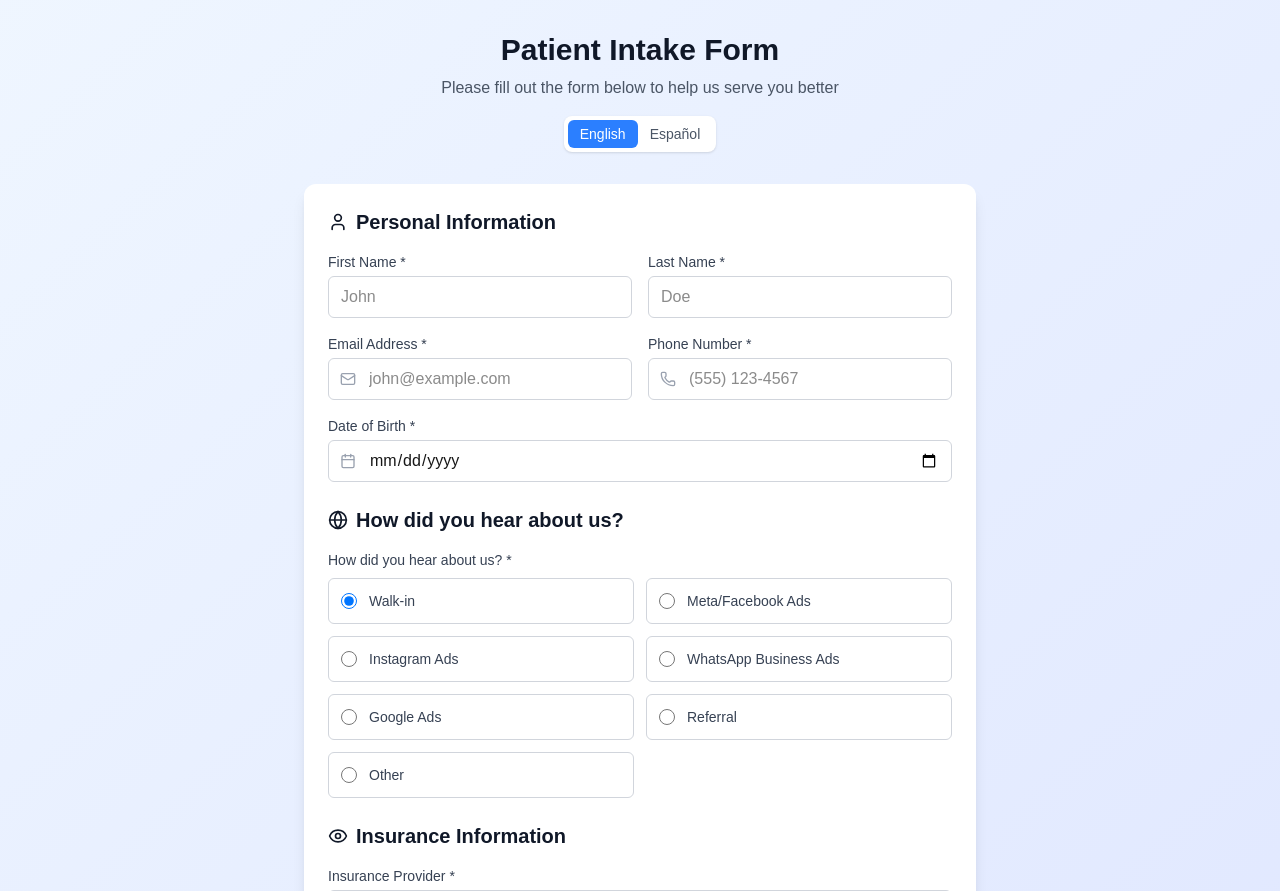
it: IntakeForm › switches language correctly
The image size is (1280, 891).
// Click Spanish button
Click the button "Español": (675, 134) [638,120,712,148]
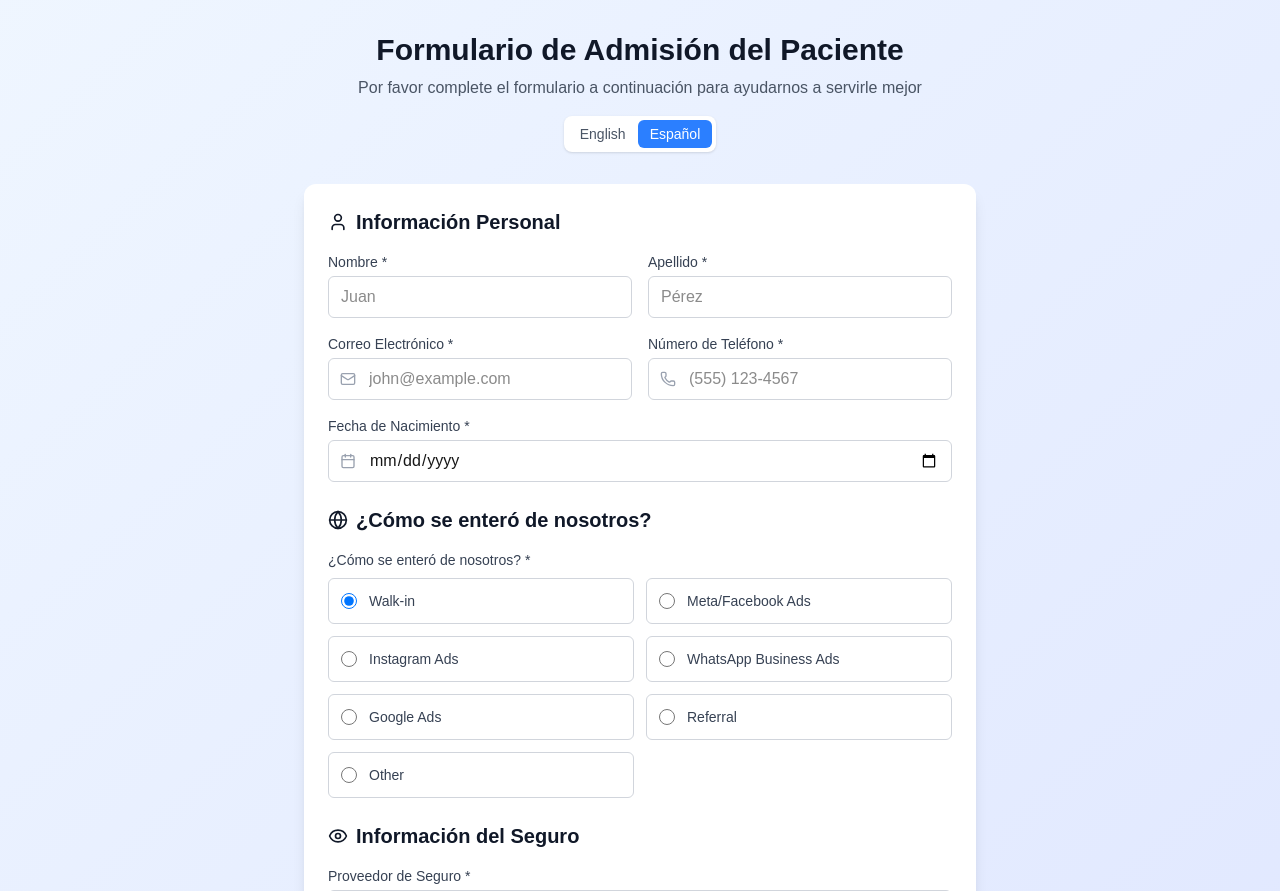
Result: the heading "Formulario de Admisión del Paciente" is shown at [376,33,904,66]
Result: the heading "Información Personal" is shown at [328,211,560,233]
Result: the heading "¿Cómo se enteró de nosotros?" is shown at [328,509,652,531]
